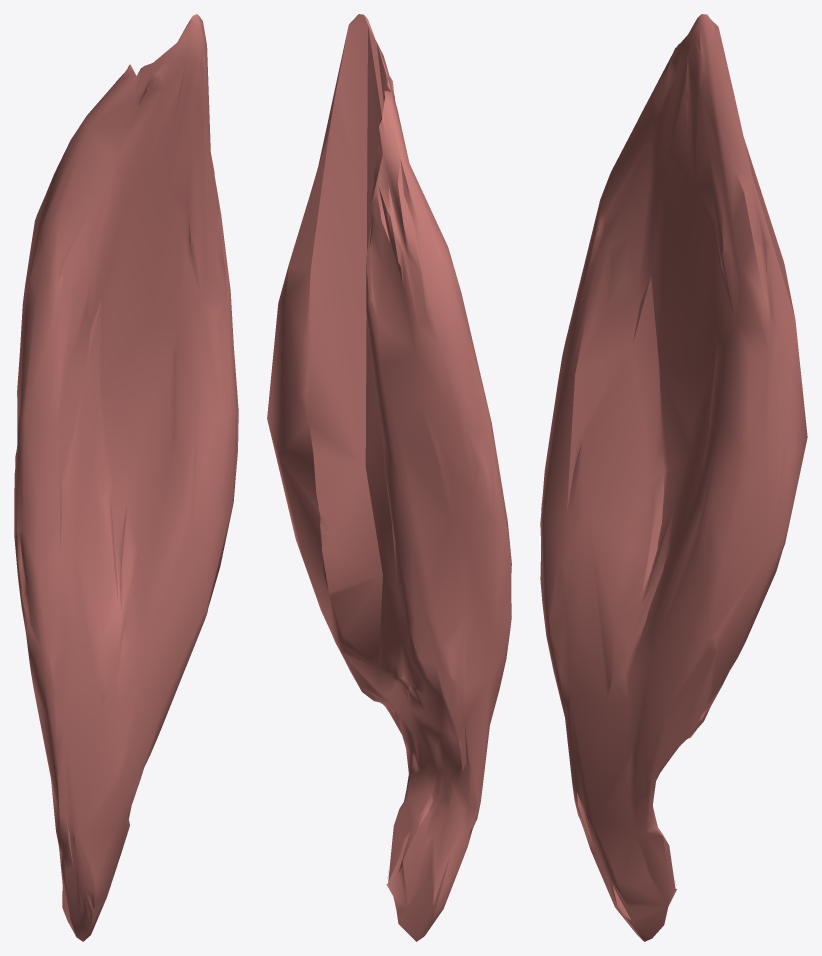
The model's file is fma37668_fj1486.glb.
3 renders of one model, left to right at view 1: azimuth 30°, elevation 25°; view 2: azimuth 150°, elevation 25°; view 3: azimuth 330°, elevation 25°, orthographic. The views are drawn at different scales.
Visible parts, largest first — view 1: FMA37668_FJ1486; view 2: FMA37668_FJ1486; view 3: FMA37668_FJ1486.
Boxes of the visible parts, <box> form: FMA37668_FJ1486: <box>14,14,238,941</box>; FMA37668_FJ1486: <box>267,14,511,941</box>; FMA37668_FJ1486: <box>540,14,807,941</box>.
Bounding box in the file's own units: 0.0587 × 0.2248 × 0.0258.
